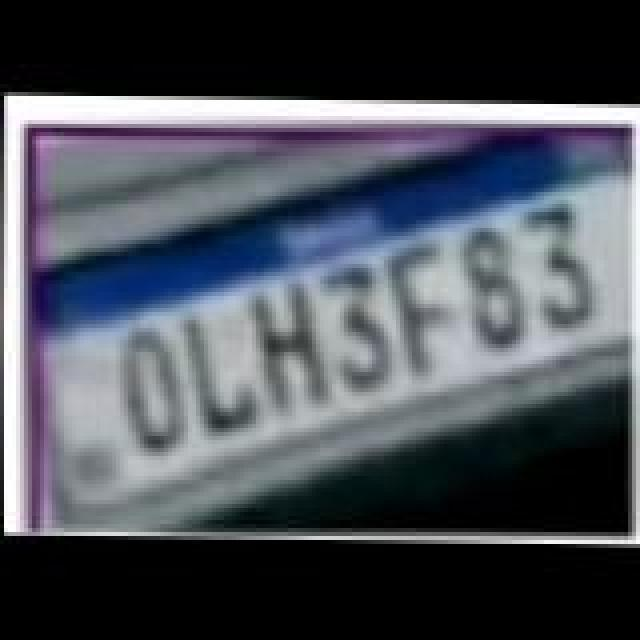3: (318, 264, 398, 392), (522, 204, 602, 332)
8: (456, 224, 532, 352)
F: (382, 242, 462, 378)
H: (246, 282, 334, 414)
L: (186, 310, 266, 438)
O: (114, 330, 190, 458)
